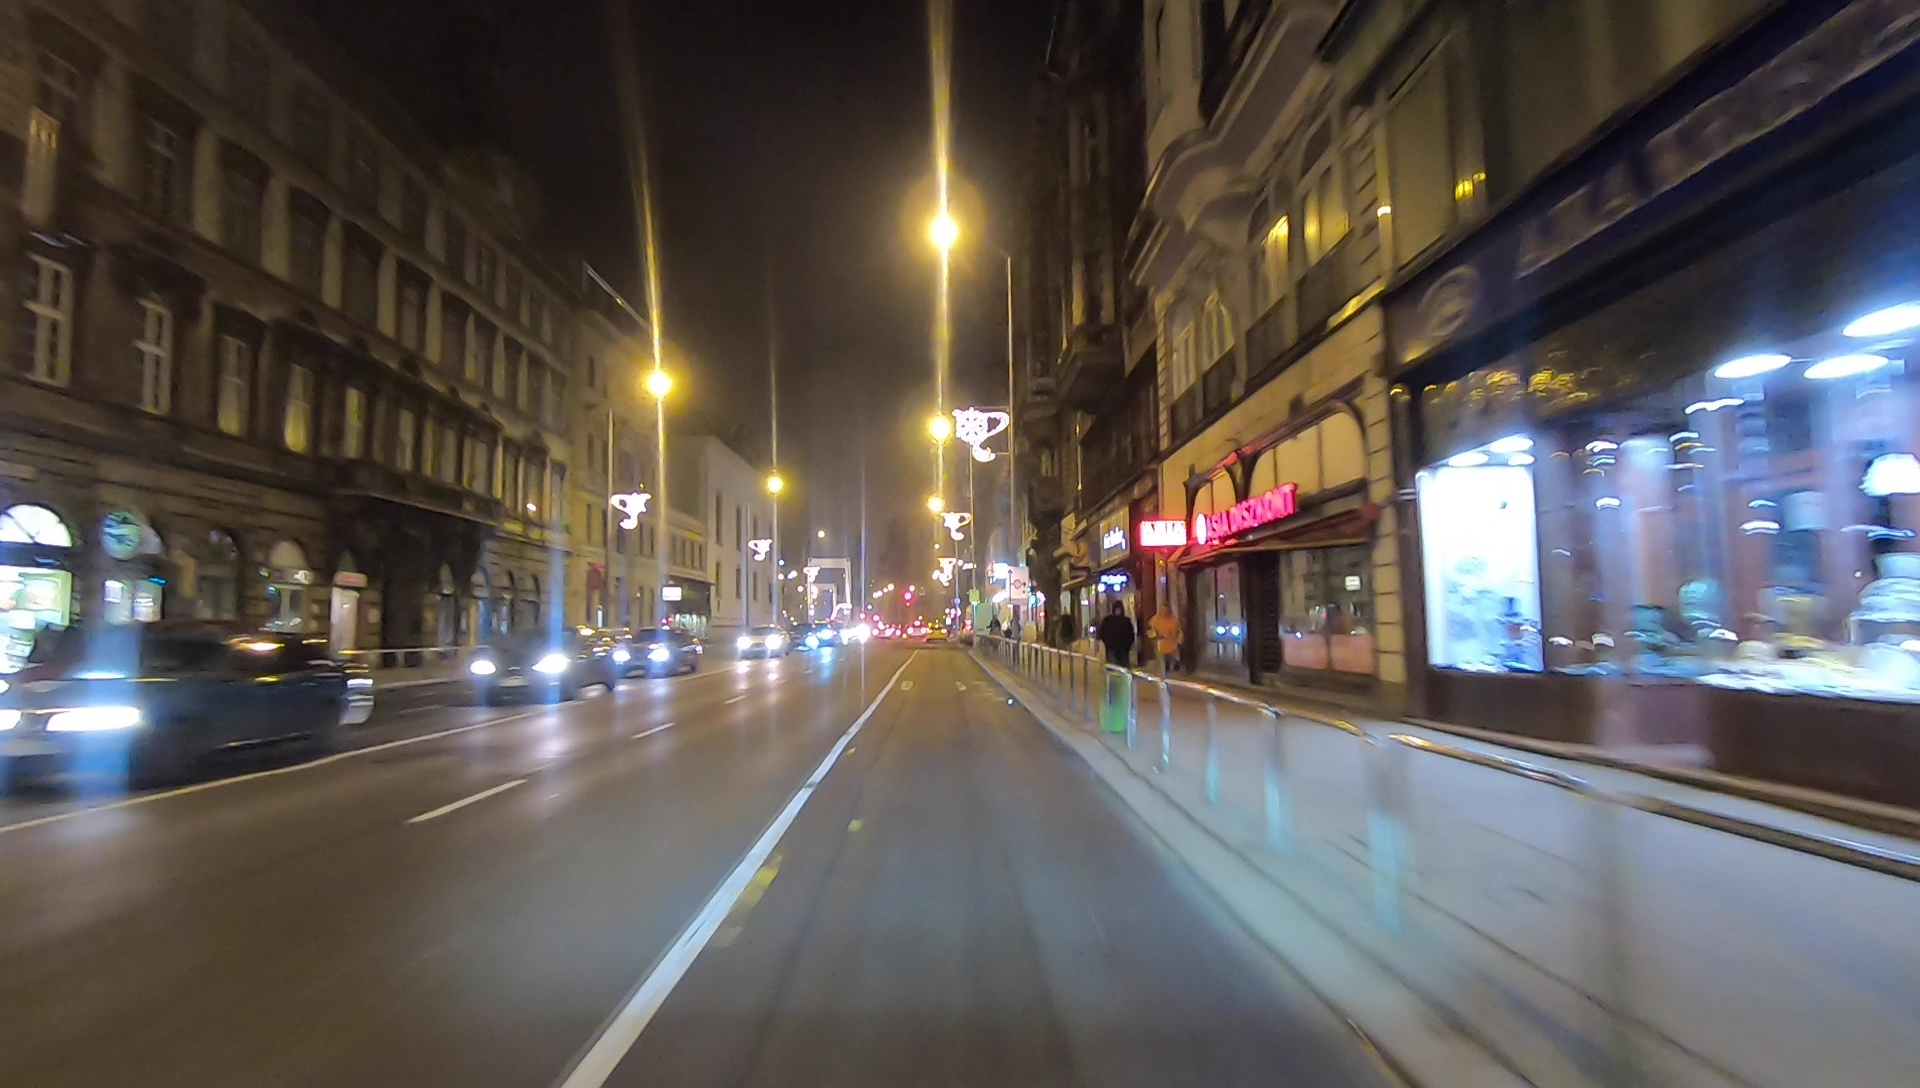person: (1097, 599, 1137, 698), (1148, 603, 1189, 685), (1055, 606, 1075, 667)
